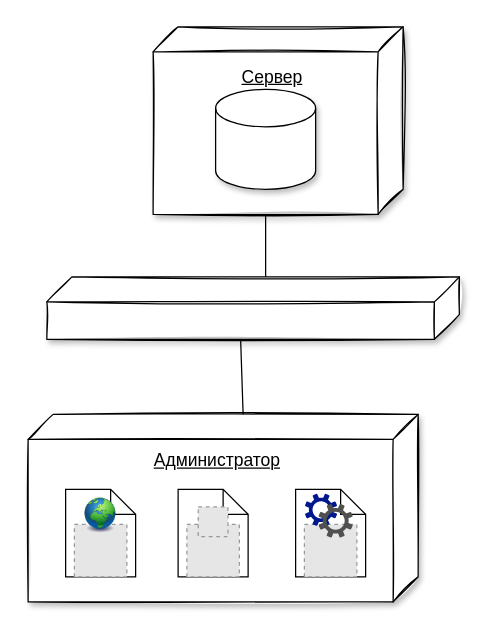
Some shapes in this 489 by 631 pixel diagram are drawn without their labels. Grey dashed boxes stand in for pictures. The centre of each missing label's shape, as x and y in pixels:
"БД" goes at [266,140].
"Локальная сеть" goes at [254,309].
